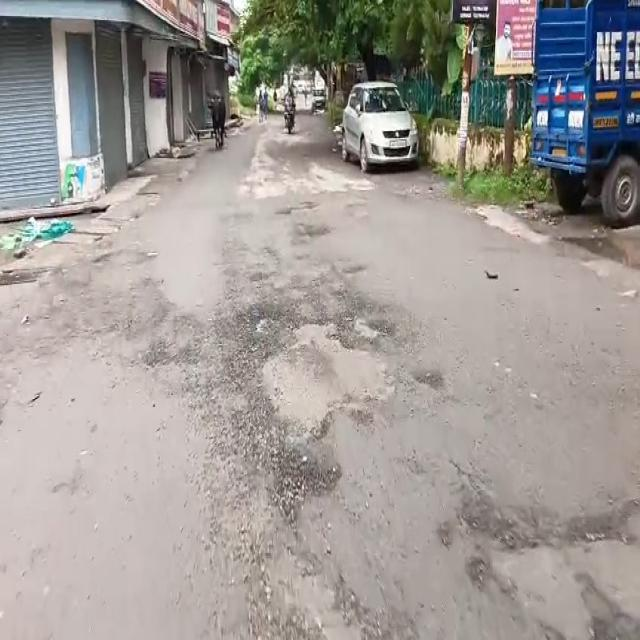road-pothole: (212, 270, 446, 524), (442, 464, 638, 639), (11, 242, 207, 364)
